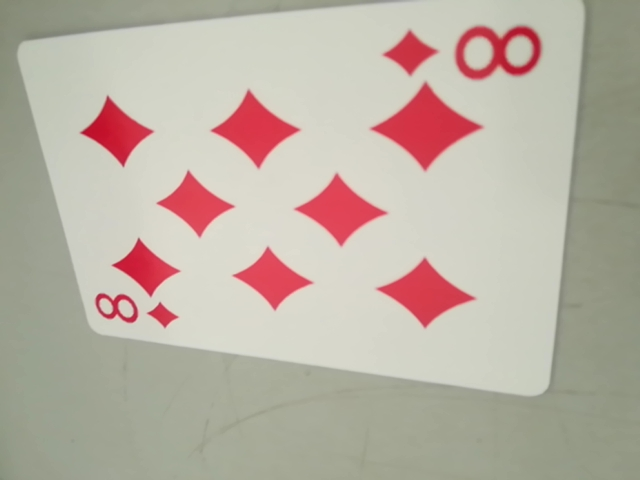fk 8: (380, 15, 545, 90), (90, 288, 177, 334)
